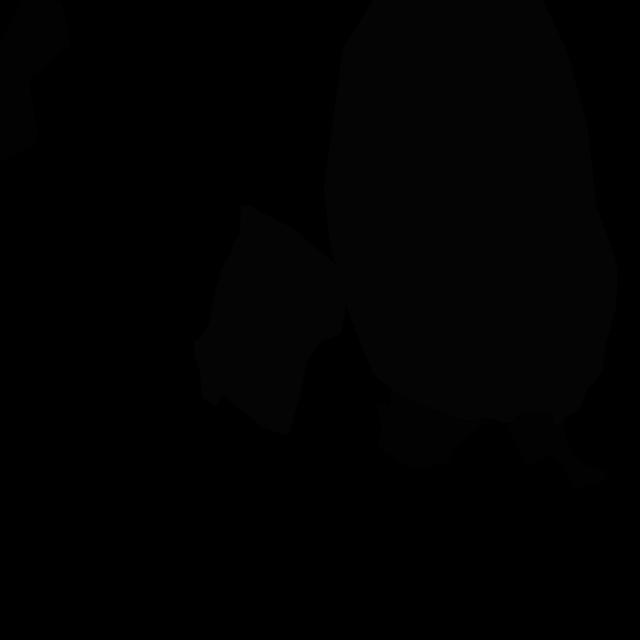cardboard: (0, 0, 71, 163), (375, 390, 490, 469), (508, 413, 610, 491)
soft_plastic: (324, 0, 618, 425), (194, 205, 346, 435)
